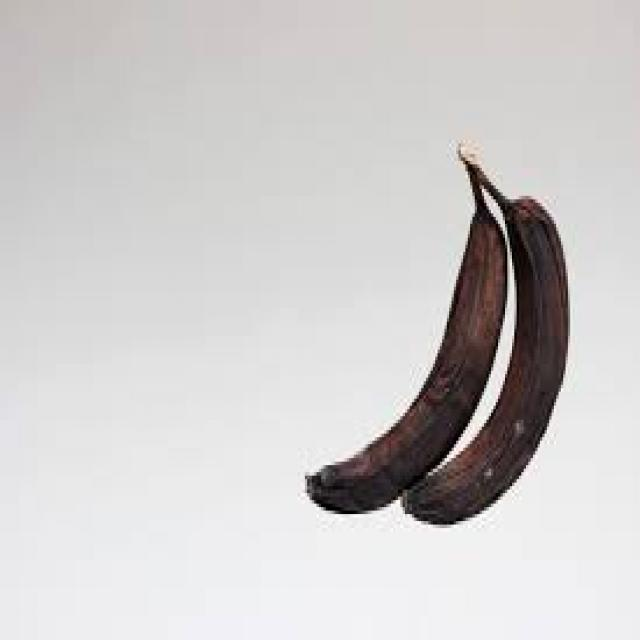organic waste: (300, 140, 505, 514), (400, 140, 568, 524)
